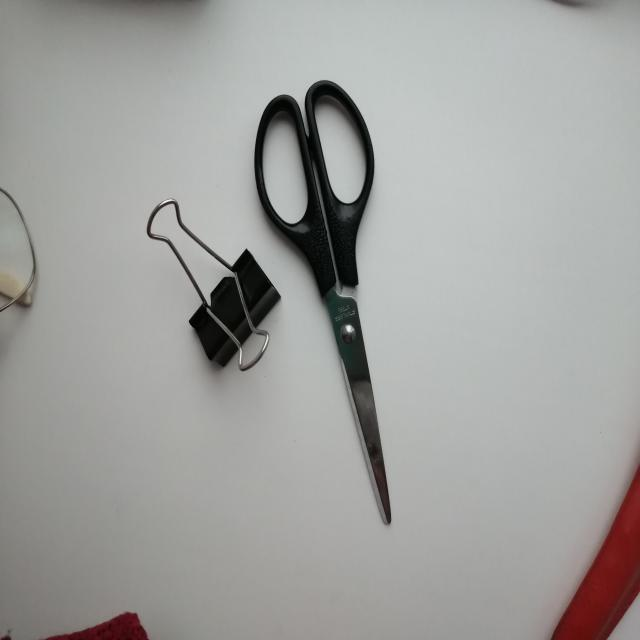tesoura: (242, 59, 411, 557)
